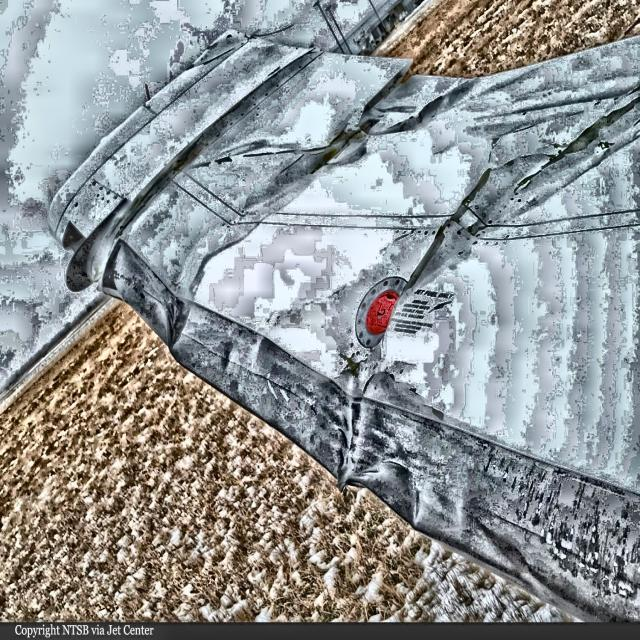crack: (304, 57, 468, 185), (508, 95, 640, 199), (404, 171, 491, 289)
